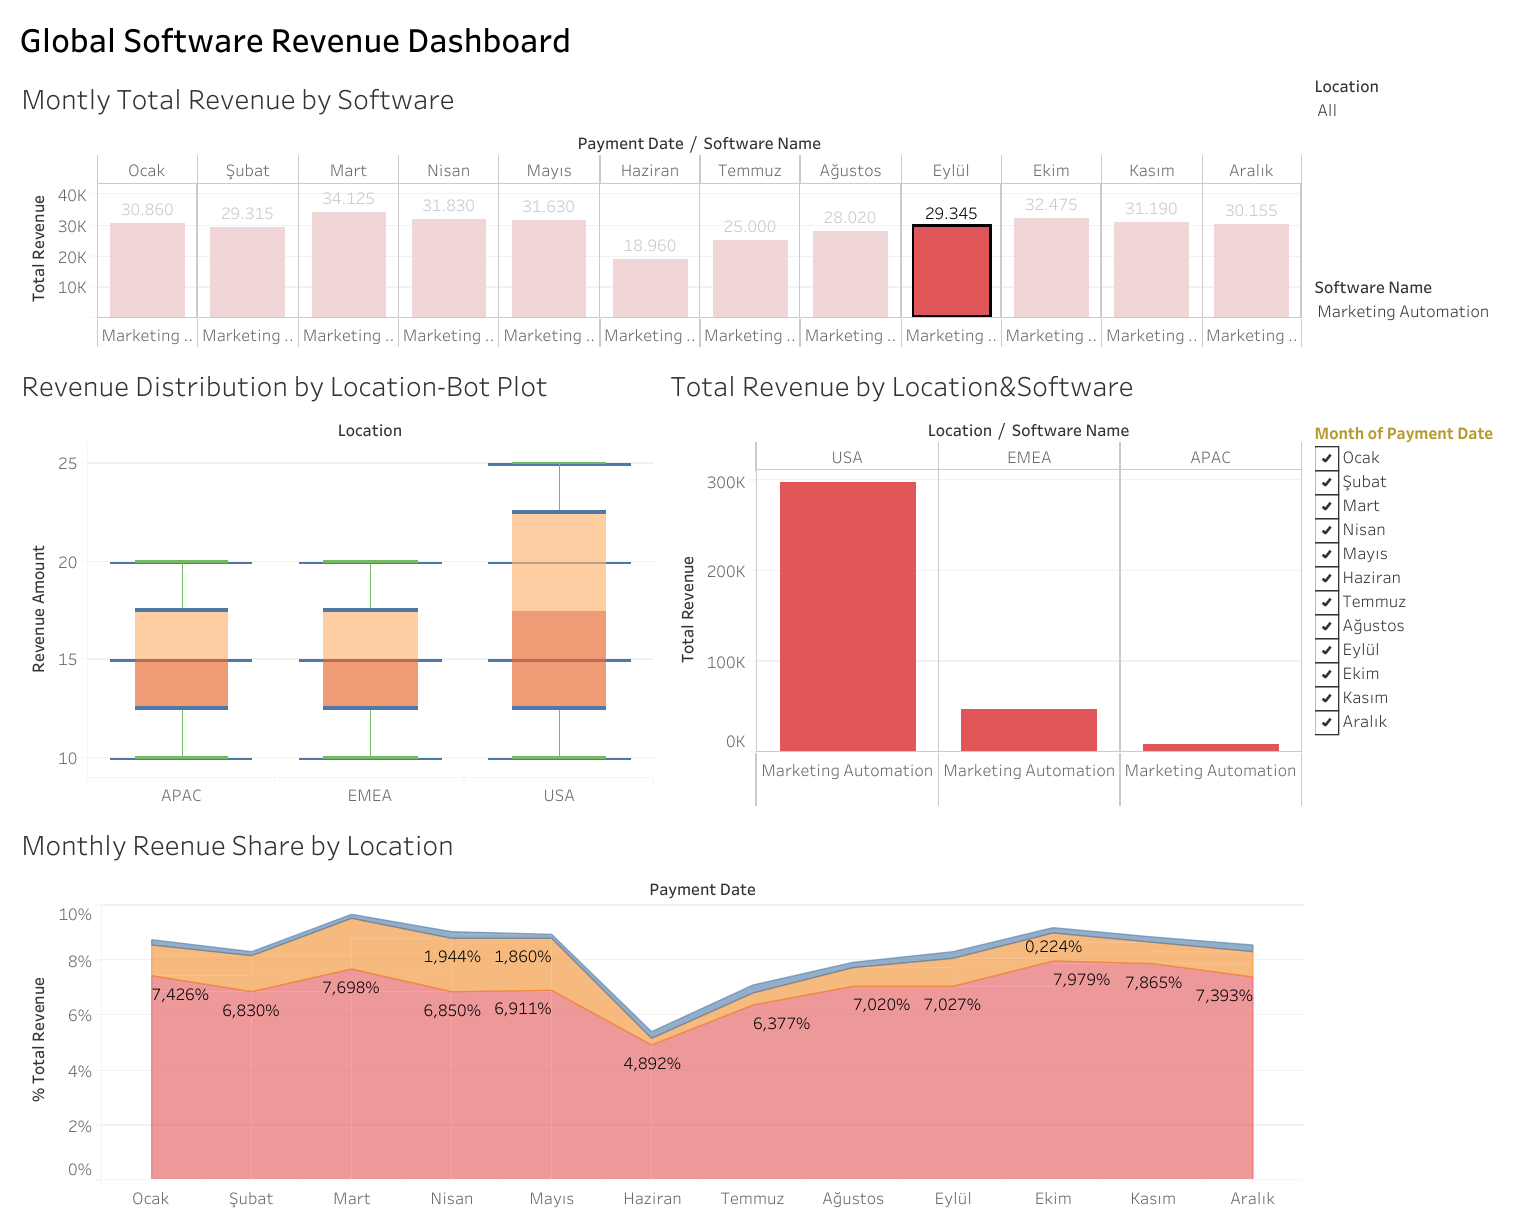

The page's visual inventory and layout, read from the dashboard file:
{"tool":"tableau","page":{"name":"Dashboard 1","canvas":[1000,1000],"units":"permille","ordinal":0},"visuals":[{"type":"title","box":[7,8.7,986.1,45.7]},{"type":"worksheet","title":"Sheet 3","mark":"Bar","rows":["Calculation_2814327616462745601"],"cols":["payment_date","software_name"],"box":[7,54.4,847,234.1]},{"type":"filter","title":"Sheet 3","param":"[federated.0tuk68z0fdrcd913g51ir0332oti].[none:location:nk]","box":[853.9,54.4,139.1,164.3]},{"type":"filter","title":"Sheet 3","param":"[federated.0tuk68z0fdrcd913g51ir0332oti].[none:software_name:nk]","box":[853.9,218.7,139.1,118.6]},{"type":"worksheet","title":"Sheet 5","mark":"Automatic","rows":["revenue_amount"],"cols":["location"],"box":[7,288.5,423.5,373.7]},{"type":"worksheet","title":"Sheet 1","mark":"Automatic","rows":["Calculation_2814327616462745601"],"cols":["location","software_name"],"box":[430.4,288.5,423.5,373.7]},{"type":"filter","title":"Sheet 3","param":"[federated.0tuk68z0fdrcd913g51ir0332oti].[mn:payment_date:ok]","box":[853.9,337.3,139.1,373.2]},{"type":"worksheet","title":"Sheet 6","mark":"Area","rows":["Calculation_2814327616462745601"],"cols":["payment_date"],"box":[7,662.2,847,329]}]}

Visuals, with their boxes on the dashboard's canvas, which has no fixed pixel size, in thousandths of its width and height (x1, y1, x2, y2). These are canvas units, not pixel positions in the 1532x1224 screenshot, which may show the page scaled, cropped or inside an application window:
title: bbox=(7, 9, 993, 54)
"Sheet 3" worksheet (Bar marks): bbox=(7, 54, 854, 288)
"Sheet 3" filter: bbox=(854, 54, 993, 219)
"Sheet 3" filter: bbox=(854, 219, 993, 337)
"Sheet 5" worksheet: bbox=(7, 288, 430, 662)
"Sheet 1" worksheet: bbox=(430, 288, 854, 662)
"Sheet 3" filter: bbox=(854, 337, 993, 710)
"Sheet 6" worksheet (Area marks): bbox=(7, 662, 854, 991)
